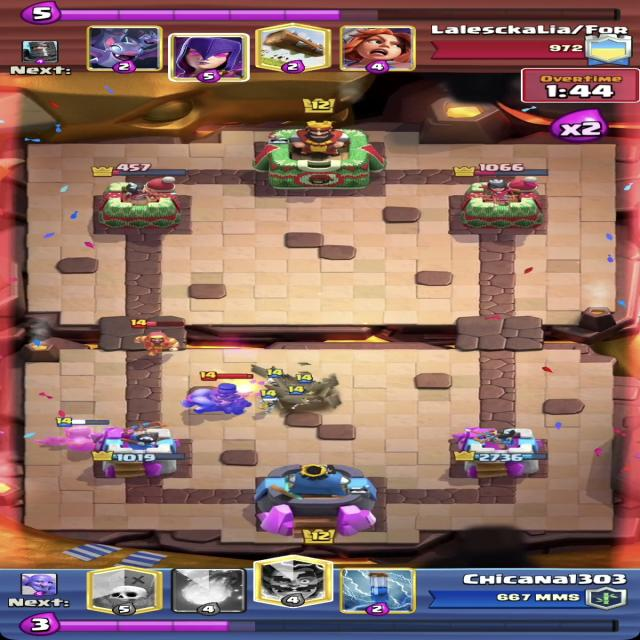Enemy-RamRider: (181, 371, 253, 415)
Enemy-Wizard: (129, 318, 186, 356)
Player-Executioner: (40, 416, 110, 454)
Player-Skeleton: (286, 385, 310, 409), (258, 389, 279, 413), (264, 368, 285, 390)
